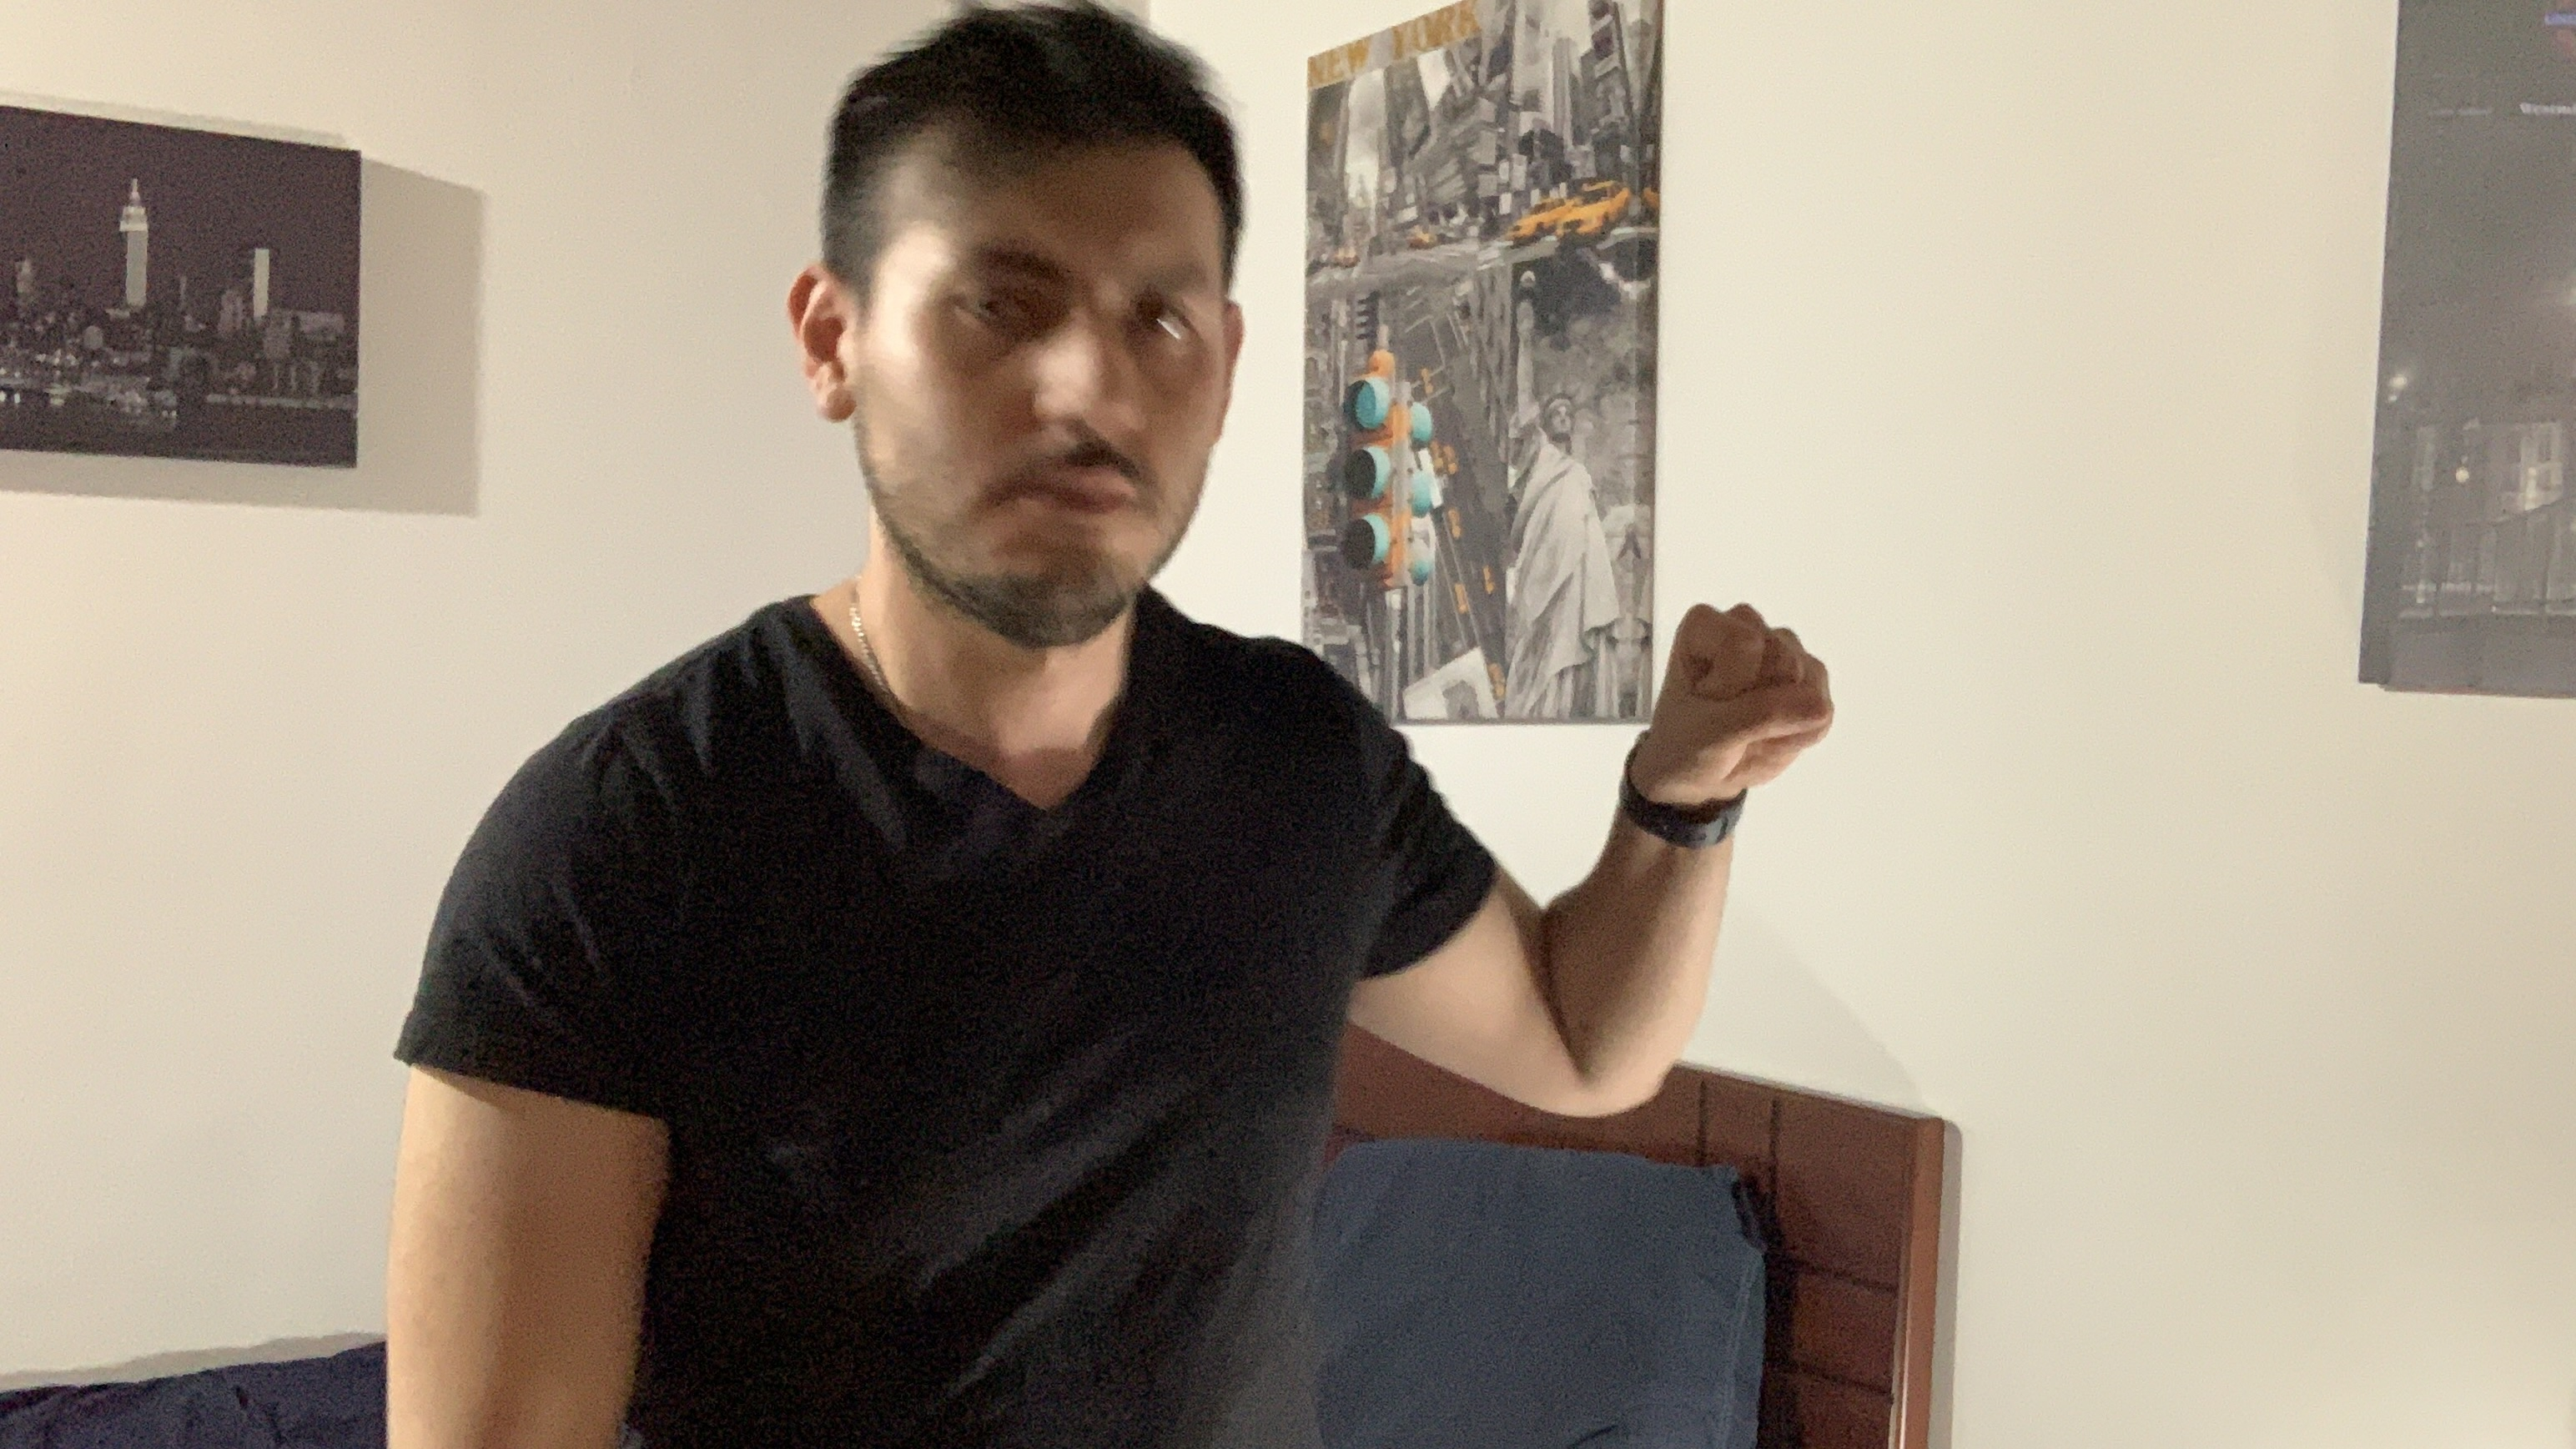Yes: (1621, 587, 1861, 809)
